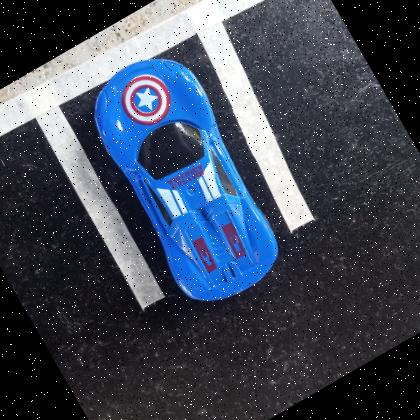Car: (93, 56, 278, 300)
